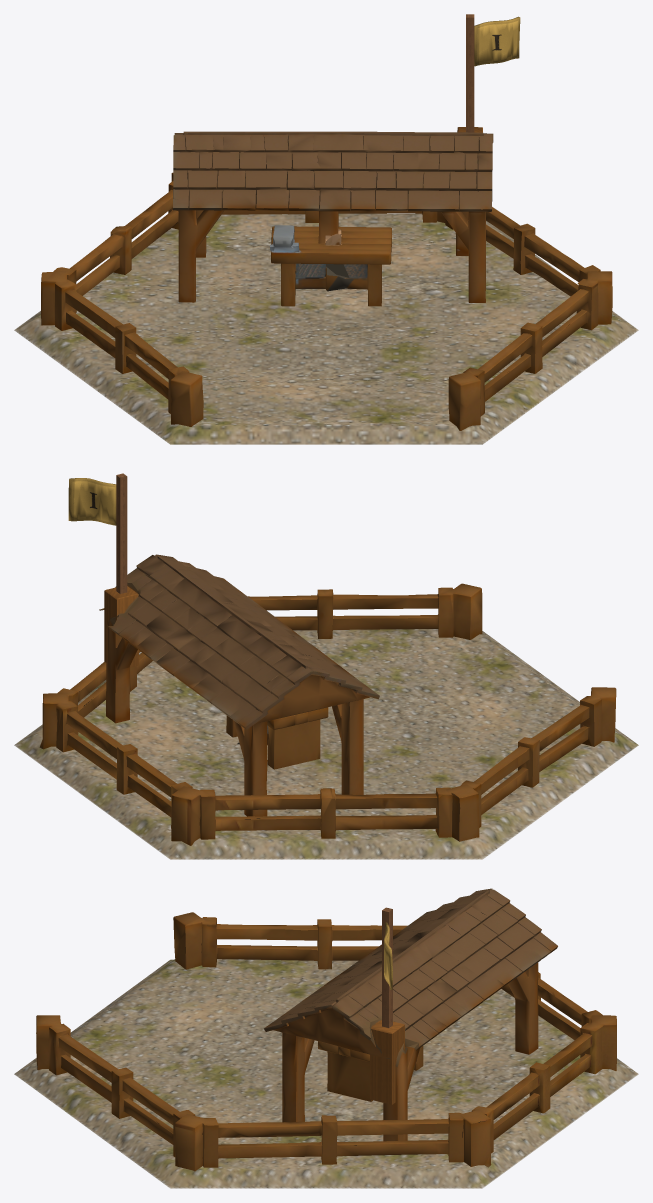
File: workshop-1.glb
3 renders of one model, top to bottom at view 1: azimuth 30°, elevation 25°; view 2: azimuth 150°, elevation 25°; view 3: azimuth 270°, elevation 25°, orthographic.
Visible parts, largest first — view 1: ground, architecture, tier-banner; view 2: architecture, ground, tier-banner; view 3: architecture, ground, tier-banner.
Part boxes in pixels (x1,y1,x2,y2): ground: (14,213,638,444); architecture: (41,14,612,430); tier-banner: (474,16,520,66); architecture: (39,473,616,845); ground: (14,629,638,859); tier-banner: (68,478,116,525); architecture: (36,888,616,1171); ground: (14,959,638,1188); tier-banner: (384,922,392,989).
Bounding box in the file's own units: 1.59 × 0.81 × 1.84.
Materials: 3 (3 with a texture image).
